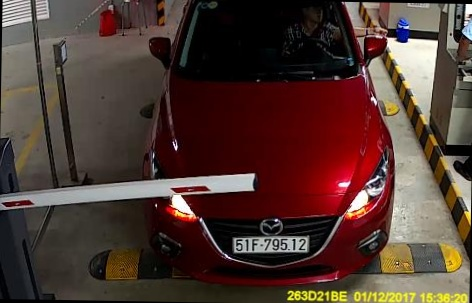plate: (223, 231, 313, 258)
